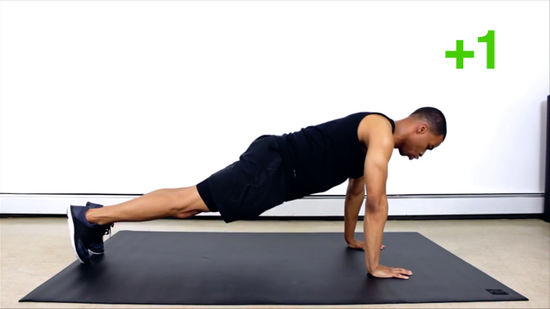up: (67, 106, 447, 281)
